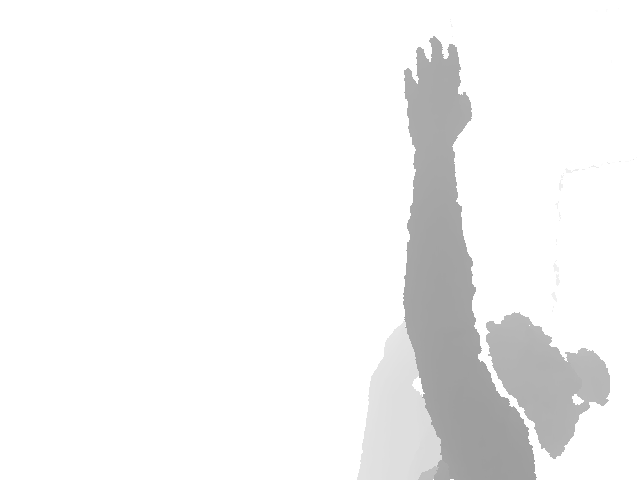hand: (403, 36, 473, 154)
head: (413, 313, 584, 457)
person: (403, 36, 612, 480)
